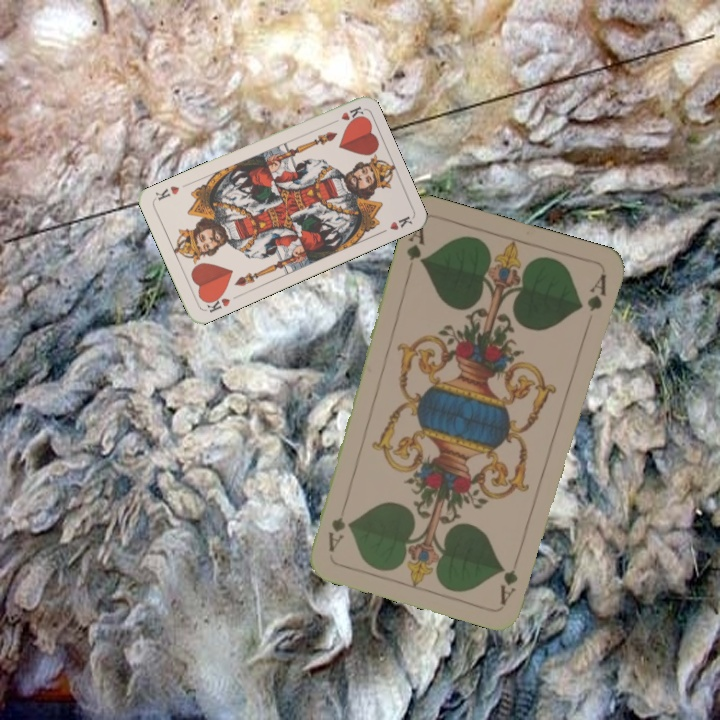GA: (496, 548, 521, 606), (402, 219, 427, 269)
HK: (325, 102, 365, 127), (201, 290, 232, 315)
